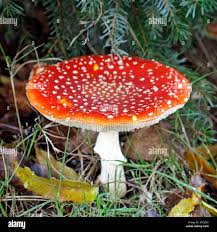Amanita muscaria: (22, 54, 193, 195)
